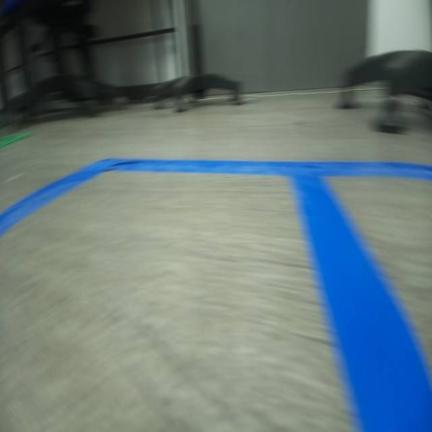place: (0, 155, 431, 430), (282, 157, 431, 431)
